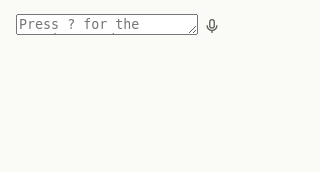
Test: dictation appends to what was already typed
Type "Why" into the text box named "Message".
click(107, 24); type("Why")  # box [16,14,198,35]
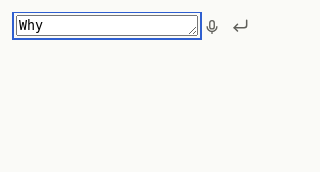
Click the button named "Dictate".
click(212, 27)  # box [198,13,226,41]
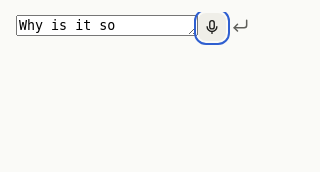
Expected: the text box named "Message" holds "Why is it so", [16,15,198,36]
